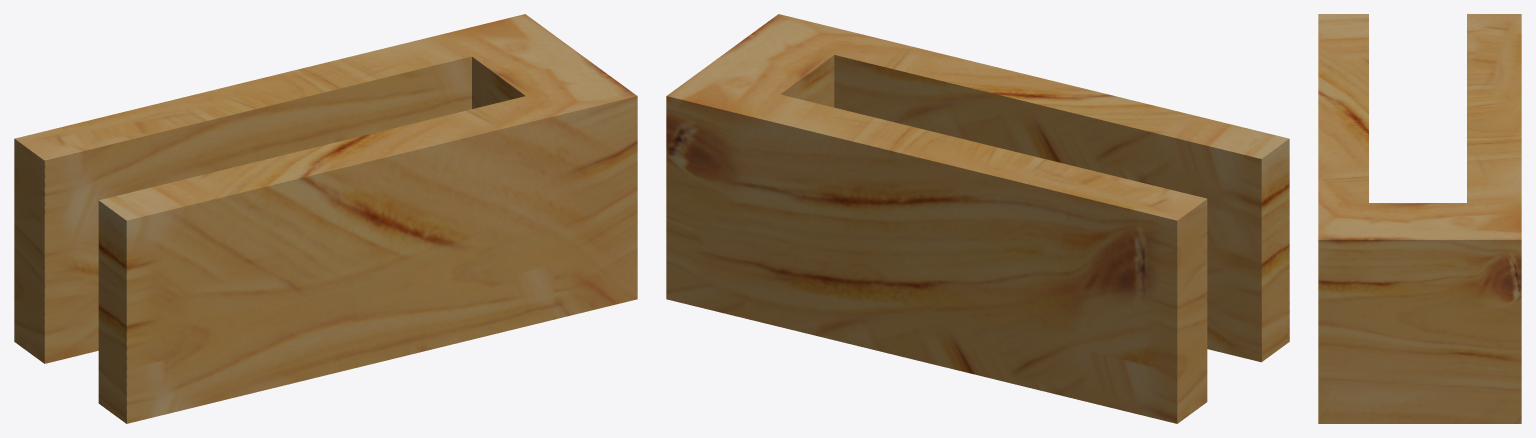
Rendered from thermometer.fbx.
3 views of the same model, side by side, from view 1: azimuth 30°, elevation 25°; view 2: azimuth 150°, elevation 25°; view 3: azimuth 270°, elevation 25° (orthographic). The views are drawn at different scales.
Parts seen in each view (by area): view 1: pCube1; view 2: pCube1; view 3: pCube1.
Part boxes in pixels (bbox=[...]): pCube1: bbox=[14, 14, 637, 423]; pCube1: bbox=[666, 14, 1289, 423]; pCube1: bbox=[1318, 14, 1521, 423].
Bounding box in the file's own units: 1207 × 459 × 459.
Materials: 1 (1 with a texture image).
